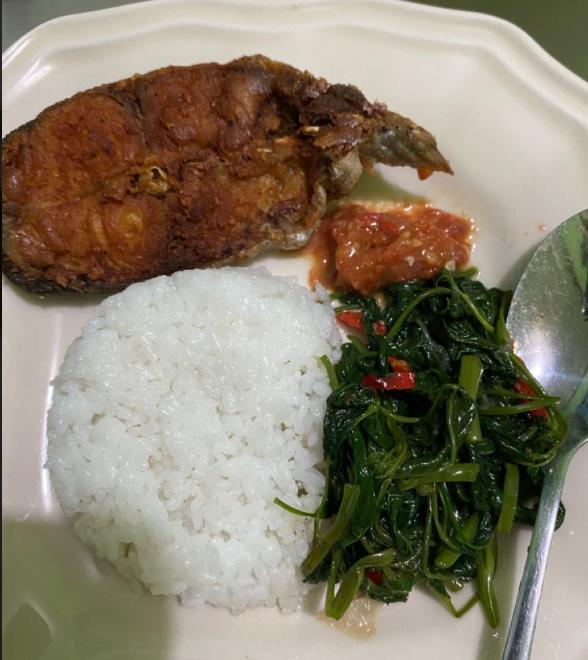buah_sayur_lainnya: (367, 329, 480, 568)
buah_sayur_vitA: (347, 220, 448, 269)
daging: (30, 112, 297, 253)
makanan_berpati: (118, 291, 273, 564)
